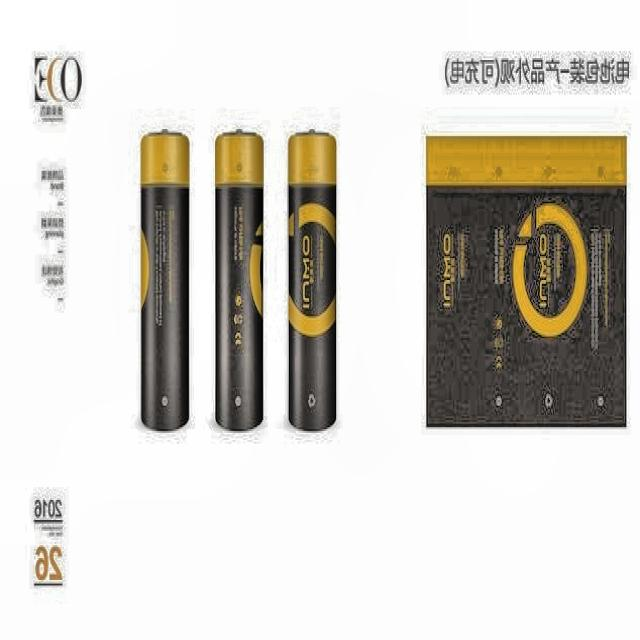Non-Valuable Waste - Batteries: (140, 131, 188, 431), (288, 133, 336, 431), (216, 133, 264, 431)
